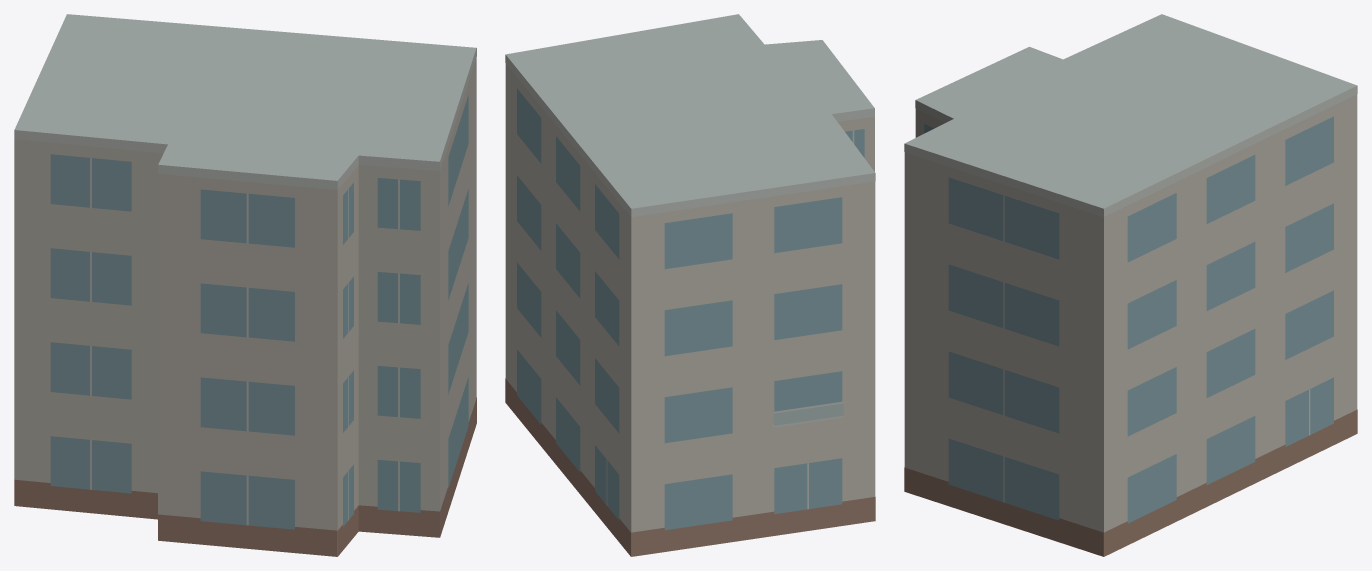
The model's file is residential-090b35c8-f919-447f-996a-724c36fcff19.glb.
3 renders of one model, left to right at view 1: azimuth 30°, elevation 25°; view 2: azimuth 150°, elevation 25°; view 3: azimuth 270°, elevation 25°, orthographic. The views are drawn at different scales.
Visible parts, largest first — view 1: residential-090b35c8-f919-447f-996a-724c36fcff19.tmp; view 2: residential-090b35c8-f919-447f-996a-724c36fcff19.tmp; view 3: residential-090b35c8-f919-447f-996a-724c36fcff19.tmp.
Boxes of the visible parts, <box> form: residential-090b35c8-f919-447f-996a-724c36fcff19.tmp: <box>14,14,476,556</box>; residential-090b35c8-f919-447f-996a-724c36fcff19.tmp: <box>505,14,875,556</box>; residential-090b35c8-f919-447f-996a-724c36fcff19.tmp: <box>904,14,1357,556</box>.
Bounding box in the file's own units: 12.12 × 10.1 × 11.92.
